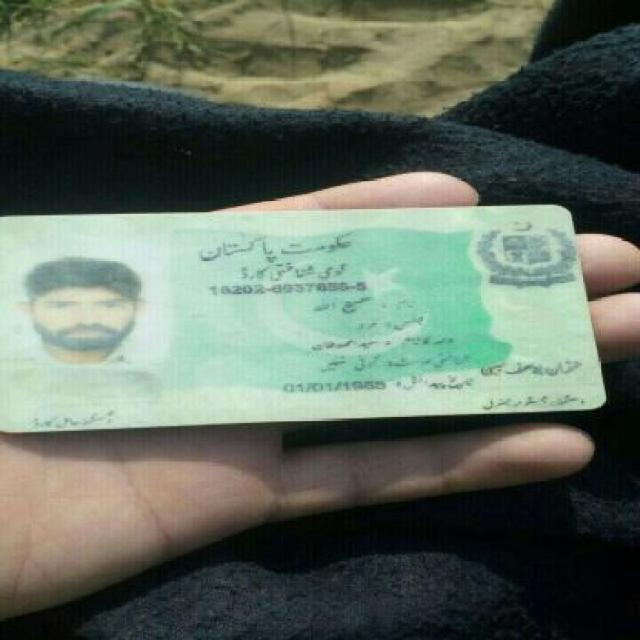Front: (3, 203, 614, 431)
